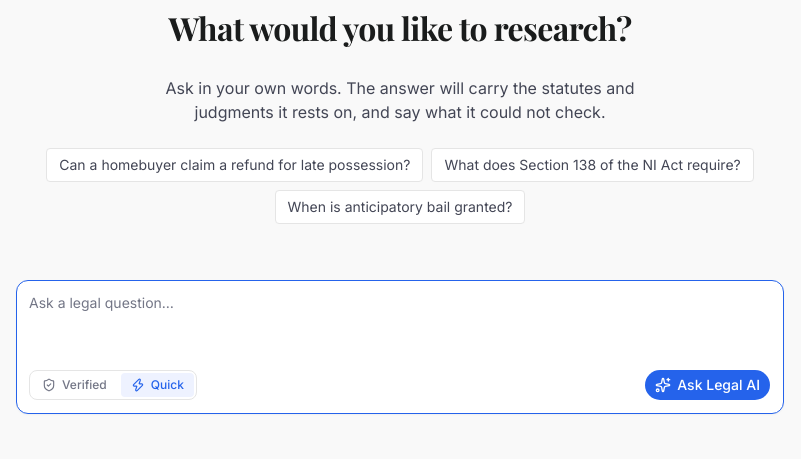
Test: the new-research screen › refuses an empty question rather than creating a thread
Click the button "Ask Legal AI".
click(708, 385)  # box [644,369,771,401]
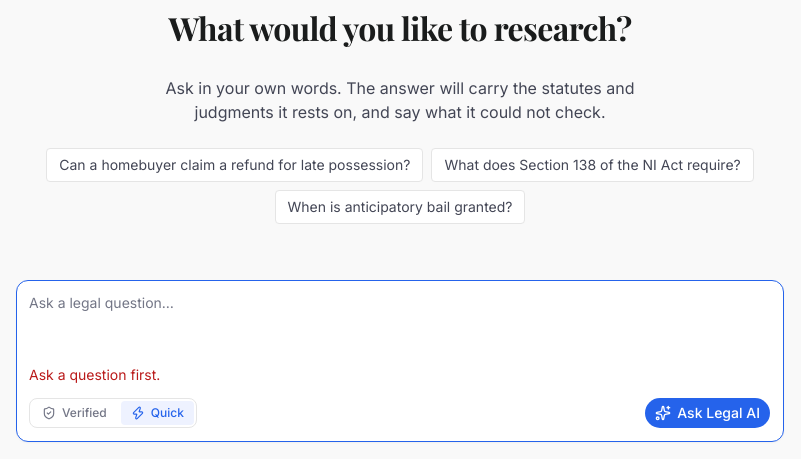
Result: the text "Ask a question first." is shown at [29,366,160,383]
